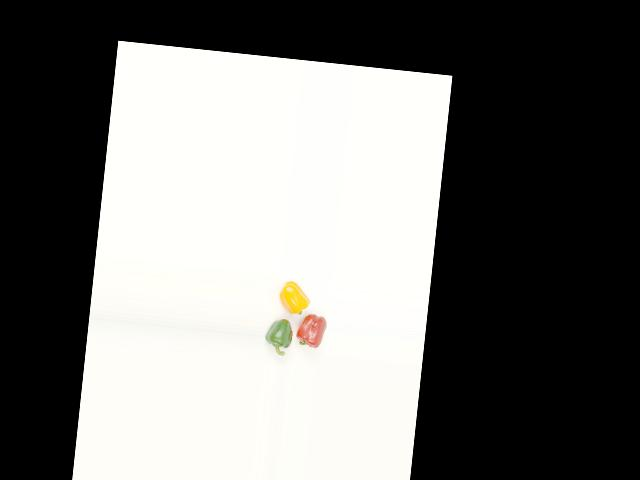bell_pepper: (263, 317, 295, 358)
